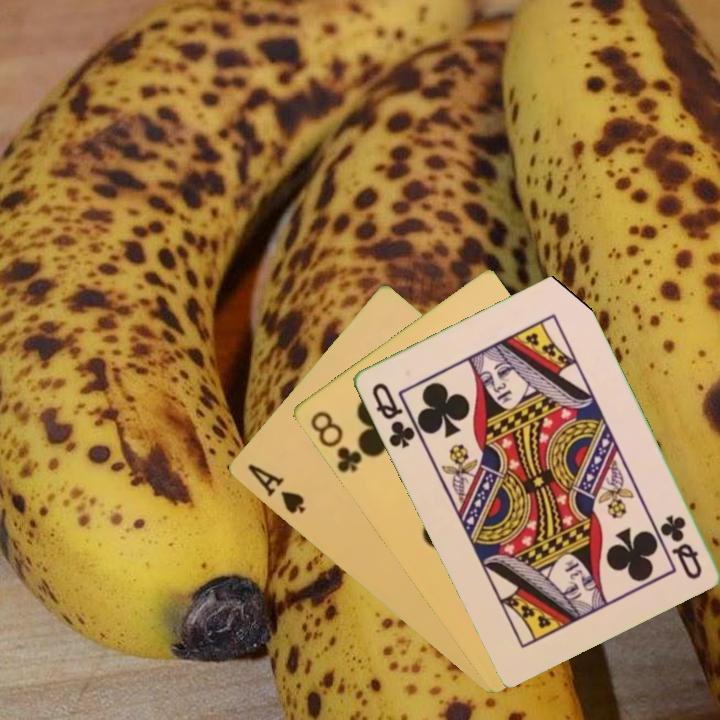8c: (306, 407, 365, 476)
As: (243, 460, 308, 517)
Qc: (367, 378, 418, 452), (656, 510, 705, 583)
